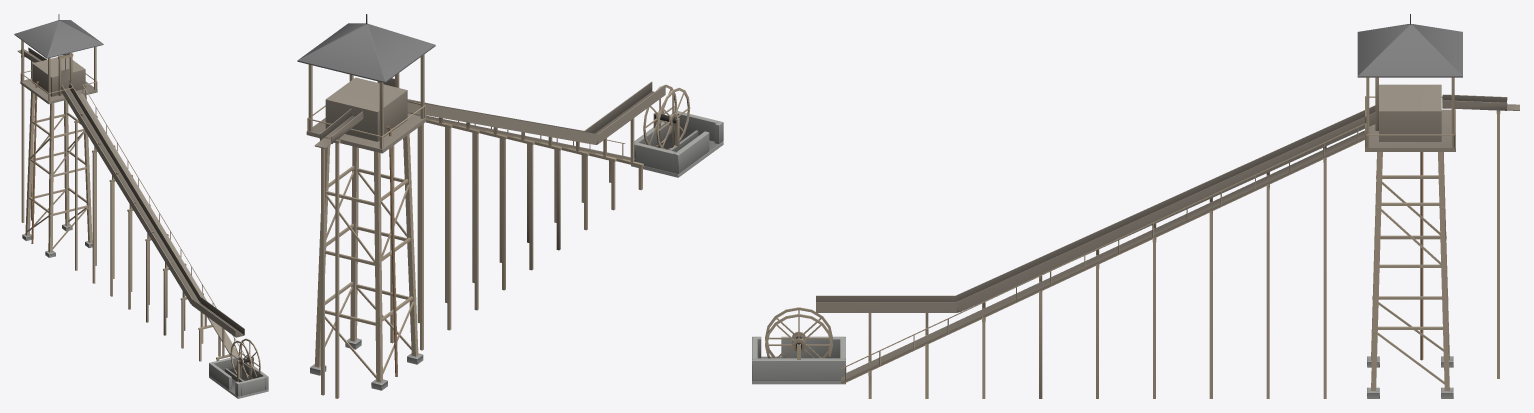
Rendered from mill_race_lod1.glb.
The picture shows the model from 3 angles, left to right: view 1: azimuth 30°, elevation 25°; view 2: azimuth 150°, elevation 25°; view 3: azimuth 270°, elevation 25°; orthographic projection. The views are drawn at different scales.
Parts seen in each view (by area): view 1: static; view 2: static; view 3: static.
Boxes of the visible parts, x1,y1,x2,y2 form: static: (14, 14, 268, 398); static: (297, 14, 723, 398); static: (752, 14, 1519, 398).
Size of the model in its own units: 7.4 by 29.2 by 54.
